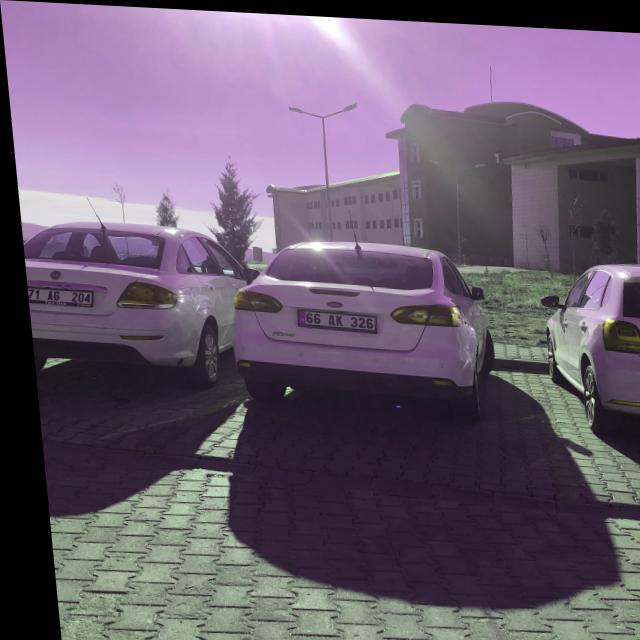license_plate: (291, 307, 370, 326)
